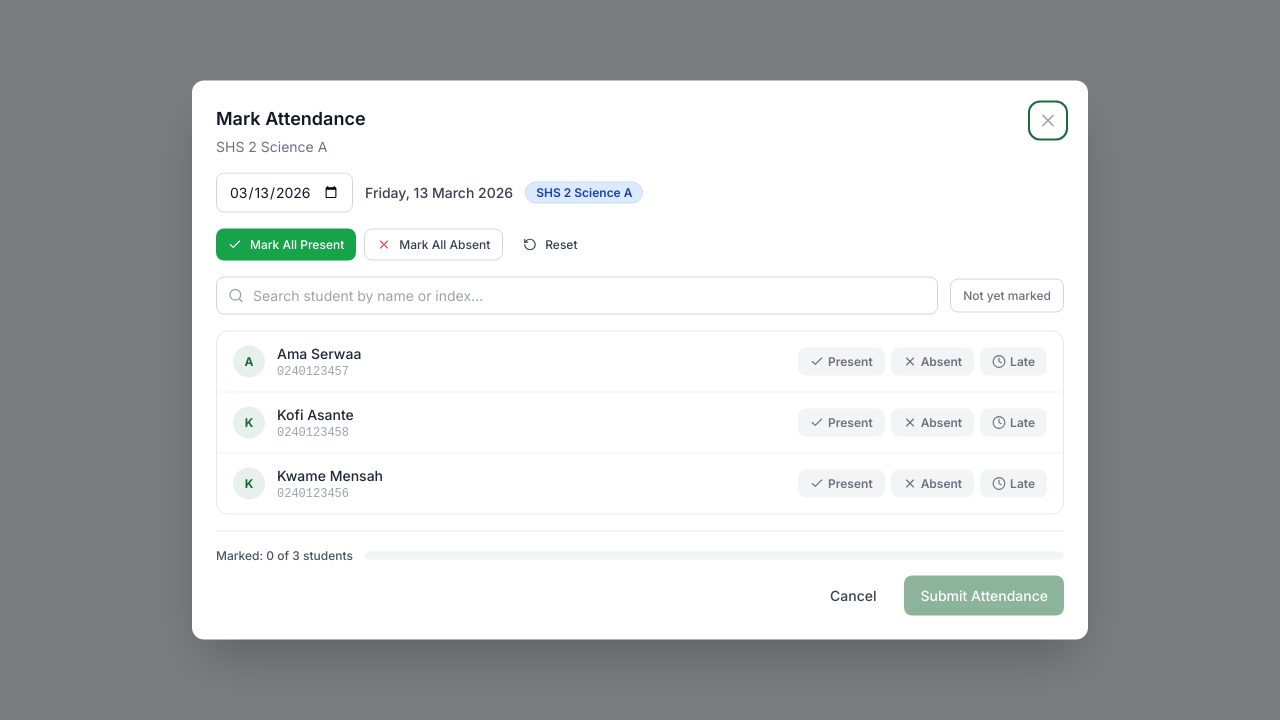
Scenario: AttendanceMarkingModal › shows progress counter as students marked
This screenshot has width=1280, height=720.
Expected: the text "Marked: 0 of 3 students" is shown, [216,548,353,564]
Click the button "Present" in the row of "Ama Serwaa" at (841, 362), box [798,348,885,376]
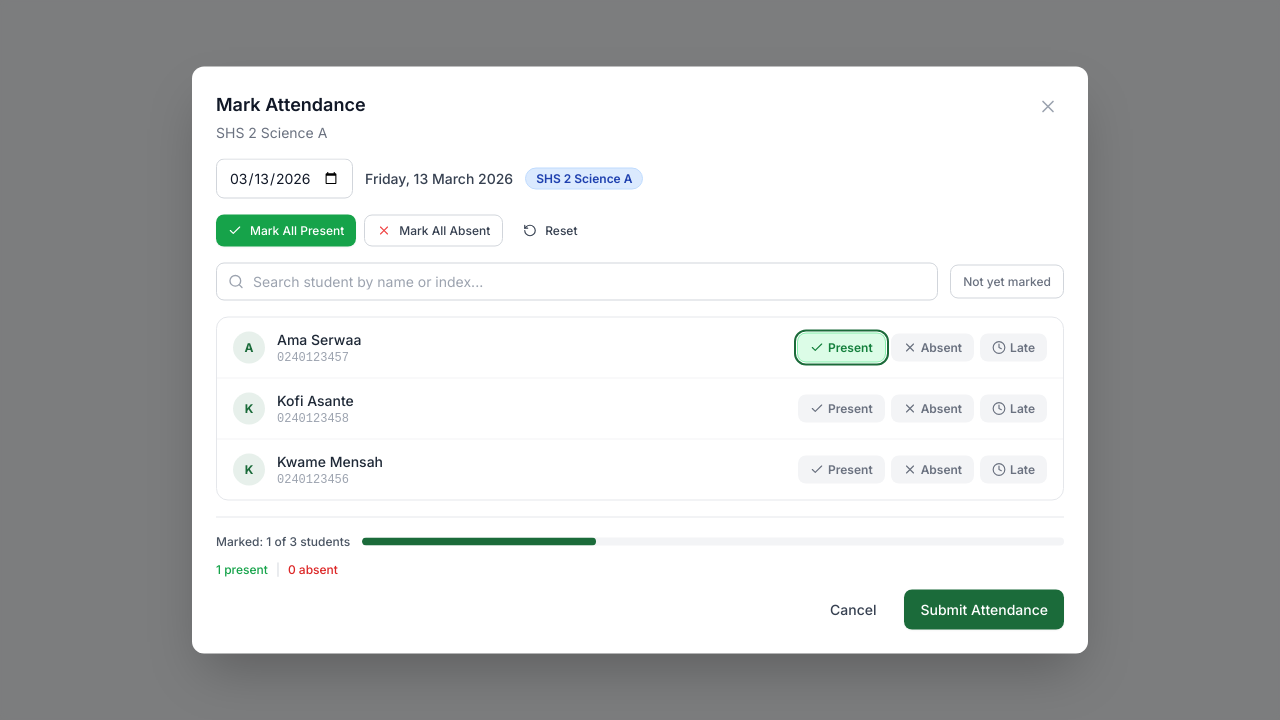
Result: the text "Marked: 1 of 3 students" is shown at [216,534,350,550]
